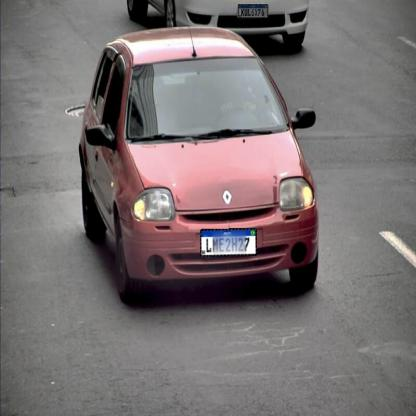PlacaM: (200, 228, 257, 257), (238, 4, 268, 18)
